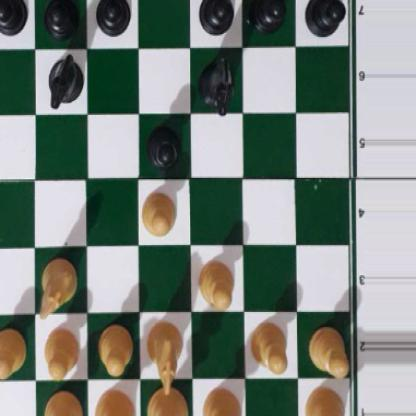black-knight: (198, 53, 235, 114), (47, 52, 82, 105)
black-pawn: (145, 120, 181, 168), (305, 0, 344, 37), (95, 0, 129, 37), (45, 0, 78, 38), (199, 0, 234, 34), (251, 0, 285, 33), (0, 0, 26, 36)
white-bishop: (201, 387, 241, 416), (41, 391, 85, 416)
white-king: (147, 383, 189, 416)
white-knight: (145, 319, 185, 395), (37, 253, 76, 316)
white-pawn: (250, 317, 289, 372), (308, 322, 348, 375), (195, 257, 234, 309), (96, 320, 132, 374), (43, 326, 80, 378), (140, 187, 176, 235), (0, 324, 26, 376)
white-queen: (93, 387, 134, 416)
white-rook: (307, 383, 354, 416)
